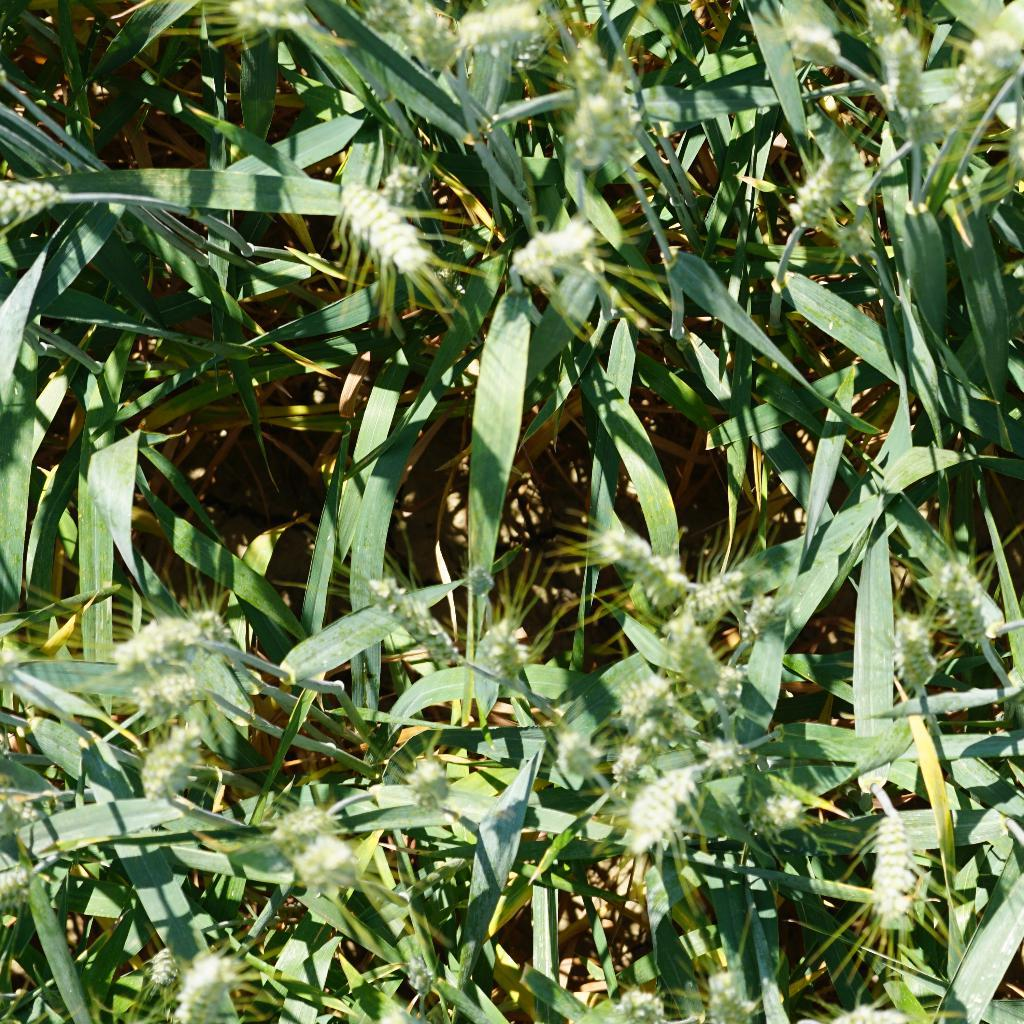0-0: (348, 561, 484, 675), (324, 171, 440, 287), (854, 802, 925, 942), (586, 508, 688, 604), (500, 204, 609, 288), (602, 751, 699, 845), (657, 617, 747, 713), (855, 0, 926, 114), (789, 131, 869, 228), (105, 605, 219, 672), (941, 18, 1013, 116), (931, 557, 1002, 656), (122, 729, 195, 819), (884, 602, 944, 705), (559, 83, 631, 168), (164, 945, 240, 1024), (464, 612, 535, 690), (440, 0, 544, 53), (286, 826, 367, 894), (683, 561, 748, 634), (122, 675, 225, 721), (746, 781, 817, 847), (395, 751, 463, 814), (404, 0, 459, 75), (706, 952, 762, 1024), (172, 594, 242, 650), (772, 7, 837, 66), (604, 979, 688, 1024), (606, 669, 680, 720), (731, 583, 792, 643), (257, 795, 329, 845), (367, 145, 422, 210), (0, 176, 66, 227), (545, 725, 604, 781), (387, 938, 440, 1000), (230, 0, 314, 32), (594, 733, 643, 785), (134, 940, 176, 994), (683, 740, 751, 772), (560, 34, 609, 77), (352, 0, 407, 30)
